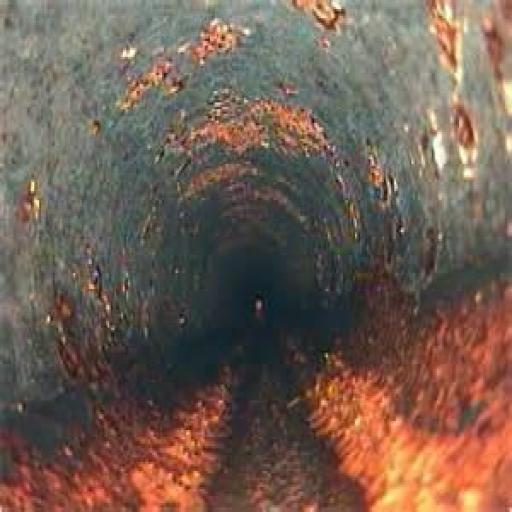segmentation: (0, 405, 225, 510), (178, 84, 337, 175)
